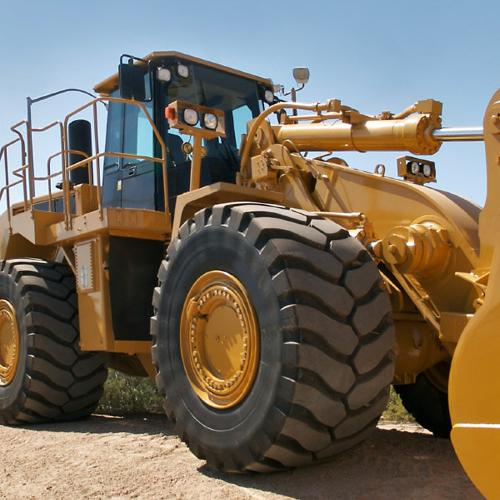con_eq: (2, 52, 500, 495)
